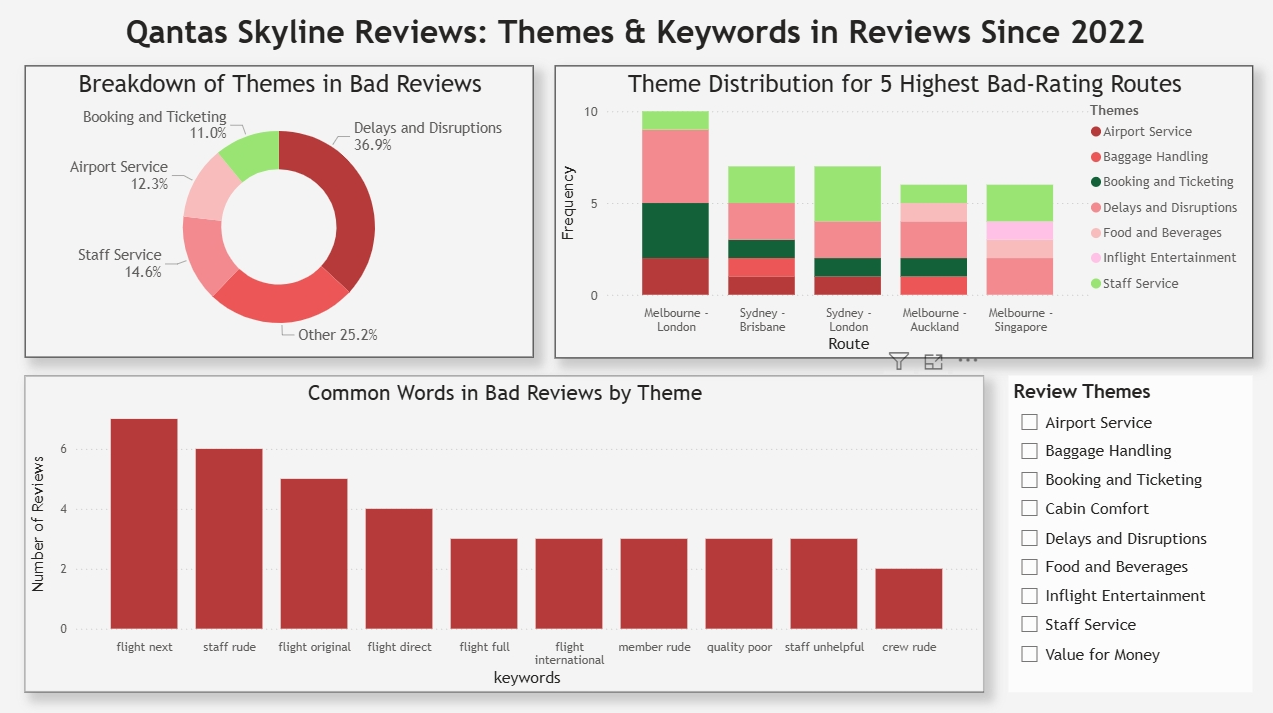

The dashboard page shown, as its layout file describes it:
{"tool":"powerbi","page":{"name":"Since 2022","canvas":[1280,720],"ordinal":1},"visuals":[{"type":"clusteredColumnChart","title":"Common Words in Bad Reviews by Theme","fields":{"Category":["review_keywords.keywords"],"Y":["CountNonNull(review_keywords.REVIEW_ID)"]},"box":[28.8,377.4,959.2,317],"z":0},{"type":"columnChart","title":"Theme Distribution for 5 Highest Bad-Rating Routes","fields":{"Category":["Topic Summary Post 1-Jul-2022.Route"],"Y":["Sum(Topic Summary Post 1-Jul-2022.Count)"],"Series":["Topic Summary Post 1-Jul-2022.Topic"]},"box":[558.6,67.1,698.6,292.9],"z":1000},{"type":"slicer","title":"Review Themes","fields":{"Values":["qantas_reviews_data.TOPIC_1"]},"box":[1012.7,377.4,244.3,317],"z":2000},{"type":"textbox","box":[8.2,9.6,1261.1,57.6],"z":3000},{"type":"donutChart","title":"Breakdown of Themes in Bad Reviews","fields":{"Y":["Sum(Topic Summary Top4.Count)"],"Category":["Topic Summary Top4.Topic Group"]},"box":[28.8,67.2,509.1,292.3],"z":4000}]}

Visuals, with their boxes in screenshot pixels (x1, y1, x2, y2), scaled from the page's 1280x720 canvas onto the 1273x713 screenshot:
"Common Words in Bad Reviews by Theme" clusteredColumnChart: box=[29, 374, 983, 688]
"Theme Distribution for 5 Highest Bad-Rating Routes" columnChart: box=[556, 66, 1250, 356]
"Review Themes" slicer: box=[1007, 374, 1250, 688]
textbox: box=[8, 10, 1262, 67]
"Breakdown of Themes in Bad Reviews" donutChart: box=[29, 67, 535, 356]
